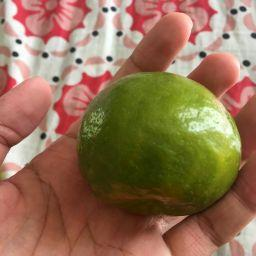Unripe: (79, 74, 243, 213)
